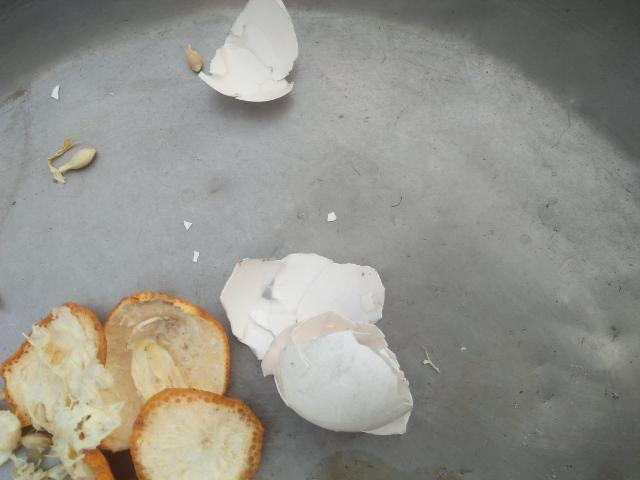Roto: (219, 251, 414, 438), (196, 0, 299, 102)
